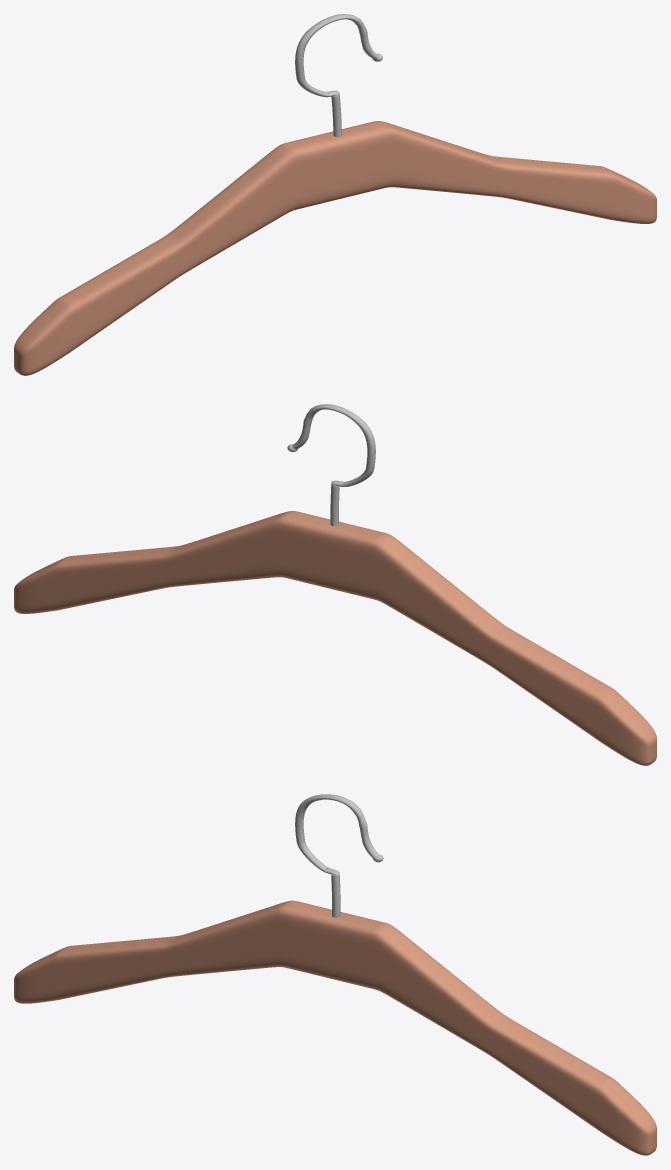
Rendered from Hanger.fbx.
3 views of the same model, one above another, from view 1: azimuth 30°, elevation 25°; view 2: azimuth 150°, elevation 25°; view 3: azimuth 330°, elevation 25° (orthographic).
Parts seen in each view (by area): view 1: Cube.047, BezierCurve; view 2: Cube.047, BezierCurve; view 3: Cube.047, BezierCurve.
Part boxes in pixels (<box>): Cube.047: <box>14,121,656,375</box>; BezierCurve: <box>295,14,382,136</box>; Cube.047: <box>14,511,656,765</box>; BezierCurve: <box>287,404,375,525</box>; Cube.047: <box>14,900,656,1155</box>; BezierCurve: <box>295,794,383,917</box>.
Size of the model in its own units: 101 by 42.67 by 4.38.
